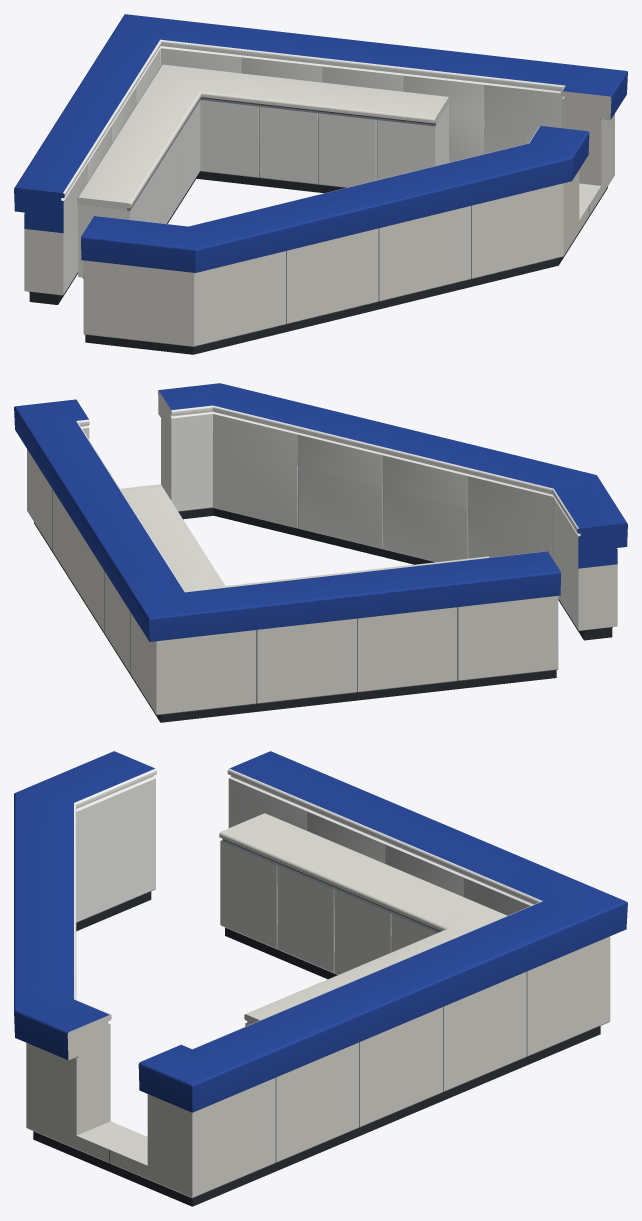
The model's file is checkout-counter-shield-rounded-1990.glb.
3 renders of one model, top to bottom at view 1: azimuth 30°, elevation 25°; view 2: azimuth 150°, elevation 25°; view 3: azimuth 270°, elevation 25°, orthographic. The views are drawn at different scales.
Visible parts, largest first — view 1: shield-surround-0.001, shield-work-cabinet.001; view 2: shield-surround-0.001, shield-work-cabinet.001; view 3: shield-surround-0.001, shield-work-cabinet.001.
Boxes of the visible parts, <box> form: shield-surround-0.001: <box>14,14,627,354</box>; shield-work-cabinet.001: <box>77,64,449,278</box>; shield-surround-0.001: <box>14,383,627,722</box>; shield-work-cabinet.001: <box>122,486,489,591</box>; shield-surround-0.001: <box>14,751,627,1206</box>; shield-work-cabinet.001: <box>219,813,507,1026</box>.
Size of the model in its own units: 19.09 by 3.54 by 14.8.
